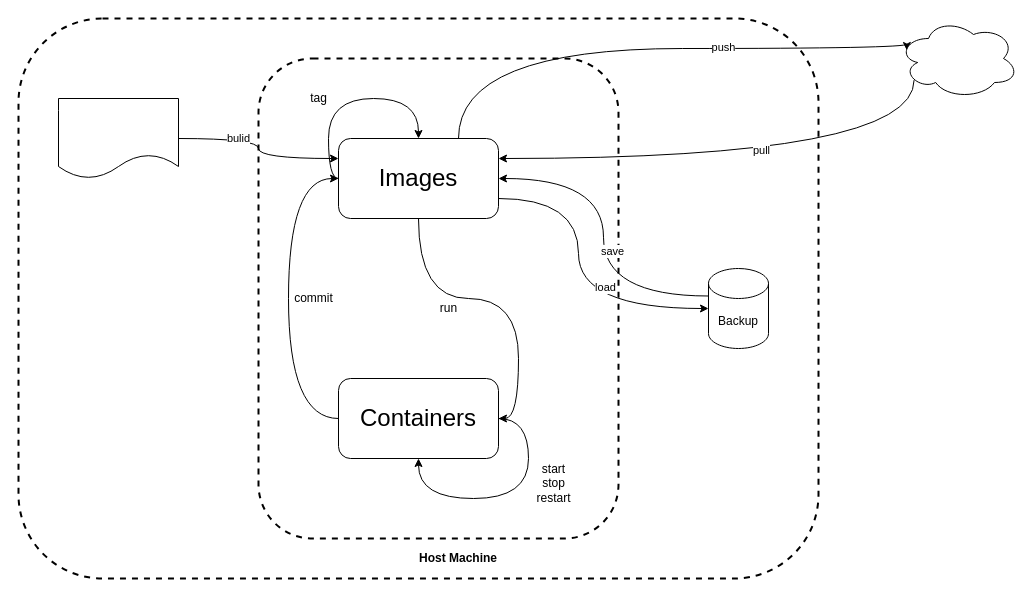
The diagram is 1036 pixels wide and 596 high, and some of its shapes have lost their labels. Here are the shapes that lost their labels. From the top down, the centre of each, then its label:
(x=958, y=58): Docker Registry
(x=118, y=138): Dockerfile
